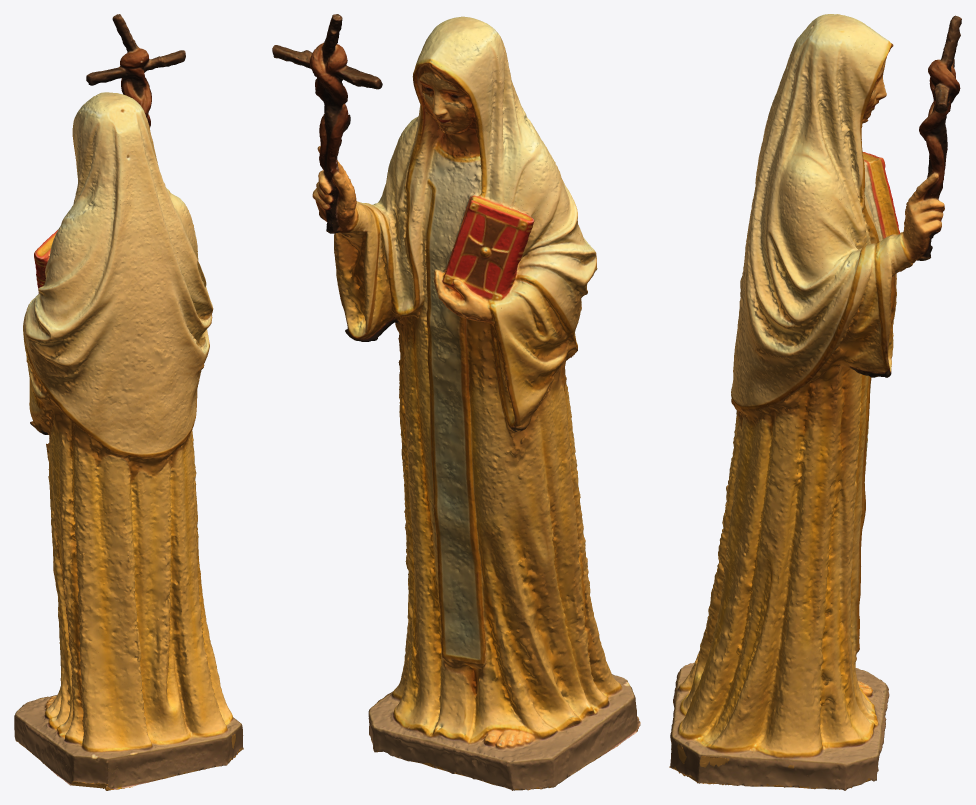
Rendered from St. Chretienne.glb.
3 renders of one model, left to right at view 1: azimuth 30°, elevation 25°; view 2: azimuth 150°, elevation 25°; view 3: azimuth 270°, elevation 25°, orthographic. The views are drawn at different scales.
Parts seen in each view (by area): view 1: Object_5, Object_4, Object_7, Object_2, Object_8, Object_6, Object_9, Object_3; view 2: Object_3, Object_8, Object_4, Object_2, Object_7, Object_6, Object_9; view 3: Object_7, Object_6, Object_5, Object_9, Object_8, Object_4, Object_3, Object_2.
Boxes of the visible parts, <box> form: Object_5: <box>85,233,212,665</box>; Object_4: <box>28,227,209,673</box>; Object_7: <box>14,14,243,788</box>; Object_2: <box>16,175,243,790</box>; Object_8: <box>22,49,230,789</box>; Object_6: <box>36,92,207,456</box>; Object_9: <box>64,73,213,462</box>; Object_3: <box>37,230,117,688</box>; Object_3: <box>377,151,594,684</box>; Object_8: <box>272,30,614,765</box>; Object_4: <box>395,304,590,654</box>; Object_2: <box>369,91,640,790</box>; Object_7: <box>306,14,640,790</box>; Object_6: <box>400,16,570,631</box>; Object_9: <box>313,23,574,424</box>; Object_7: <box>670,15,961,789</box>; Object_6: <box>731,14,893,677</box>; Object_5: <box>708,178,809,682</box>; Object_9: <box>751,14,954,449</box>; Object_8: <box>670,59,958,790</box>; Object_4: <box>735,163,871,570</box>; Object_3: <box>783,156,900,664</box>; Object_2: <box>669,85,901,789</box>.
Bounding box in the file's own units: 3.51 × 10.35 × 3.6.
1 material, 1 textured.
